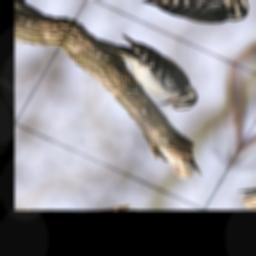Woodpecker: (77, 21, 222, 123)
